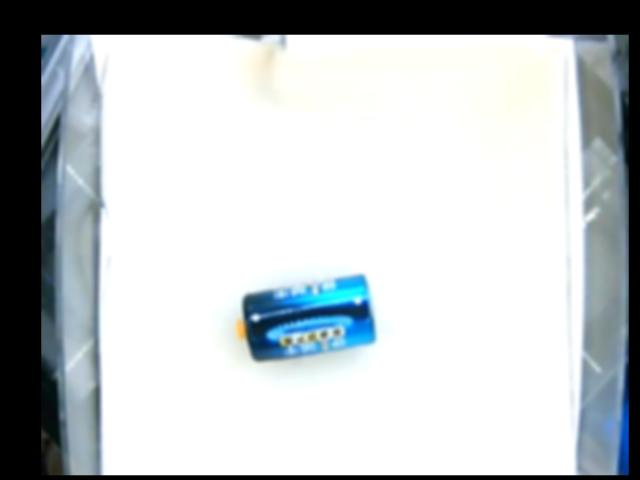Battery: (233, 272, 379, 364)
